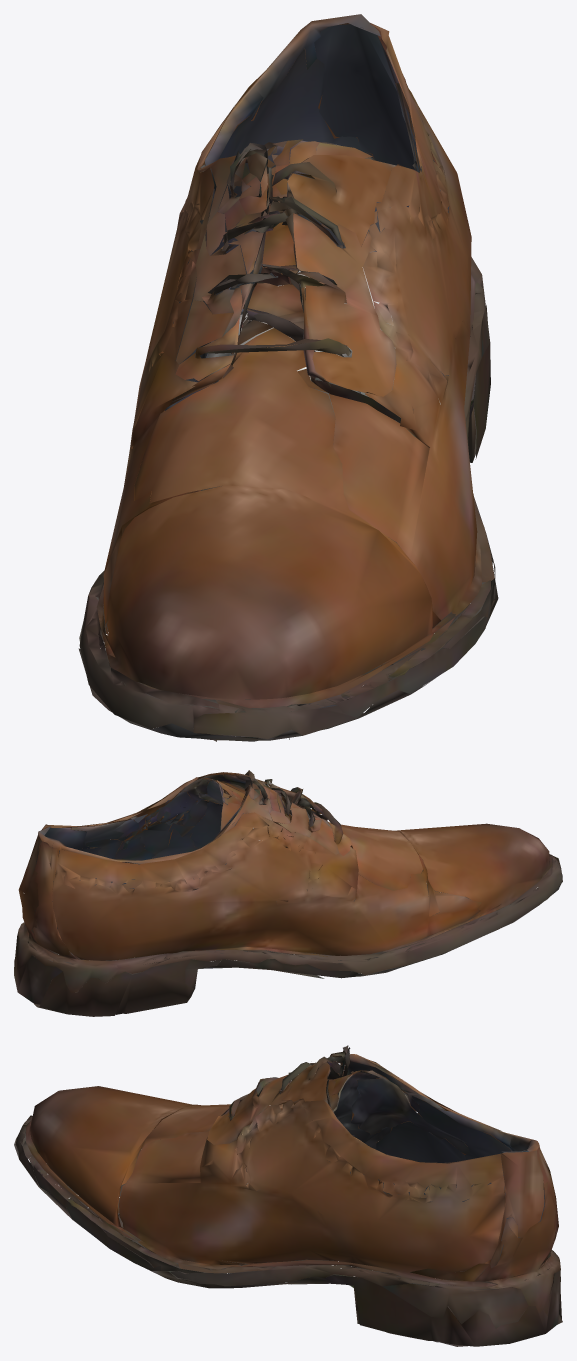
The model's file is ropa_dress_shoe_left.glb.
The picture shows the model from 3 angles, top to bottom: view 1: azimuth 30°, elevation 25°; view 2: azimuth 150°, elevation 25°; view 3: azimuth 270°, elevation 25°; orthographic projection. The views are drawn at different scales.
Visible parts, largest first — view 1: Object_2; view 2: Object_2; view 3: Object_2.
Part boxes in pixels (bbox=[...]): Object_2: bbox=[78, 14, 498, 741]; Object_2: bbox=[14, 770, 562, 1016]; Object_2: bbox=[14, 1045, 562, 1346].
Size of the model in its own units: 0.2344 by 0.1254 by 0.2821.
1 material, 1 textured.
